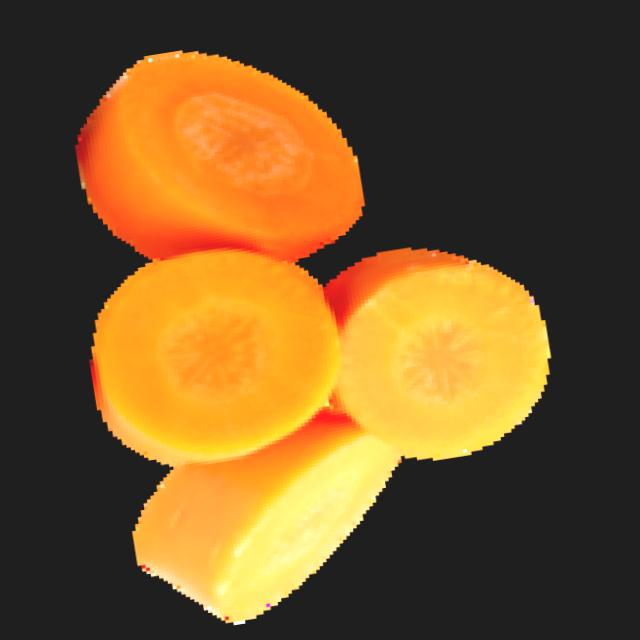ca rot: (75, 55, 546, 623)
